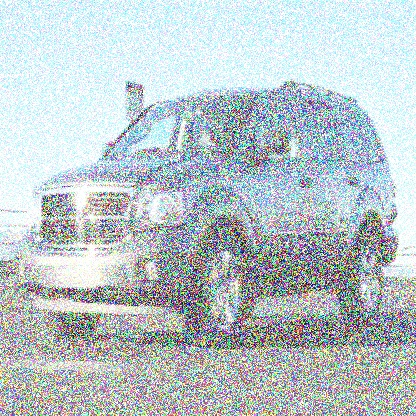Vehicle: (15, 81, 399, 350)
